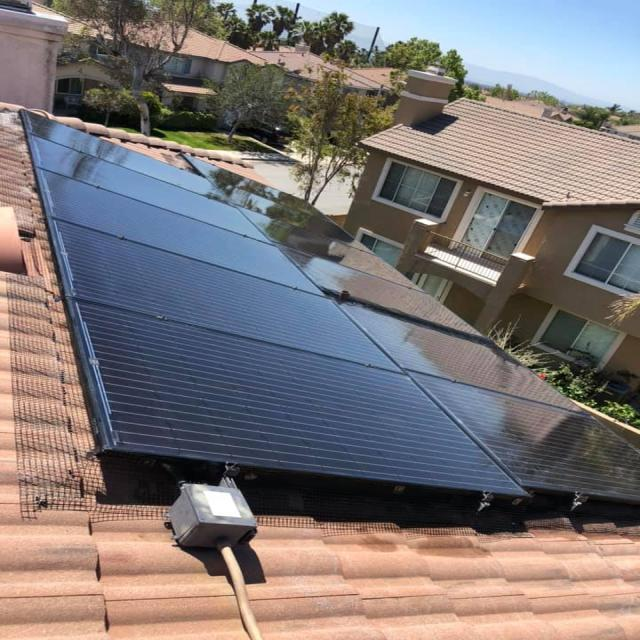clean-solar-panel: (23, 111, 638, 501)
